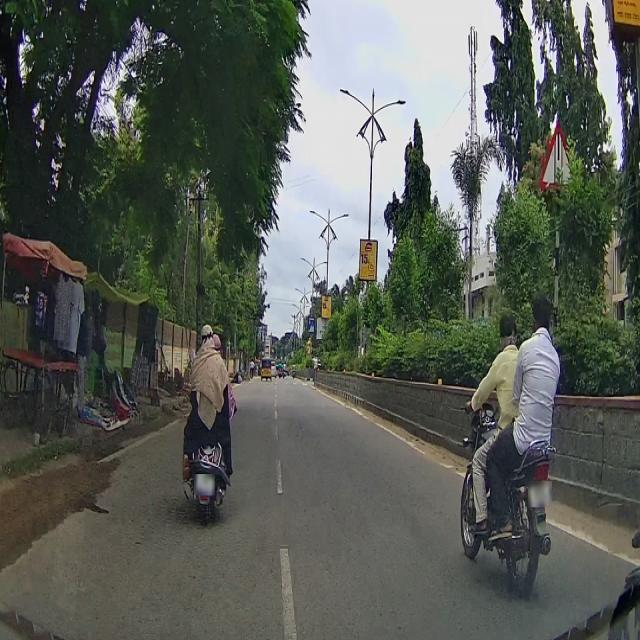gap-in-median: (539, 126, 572, 186)
